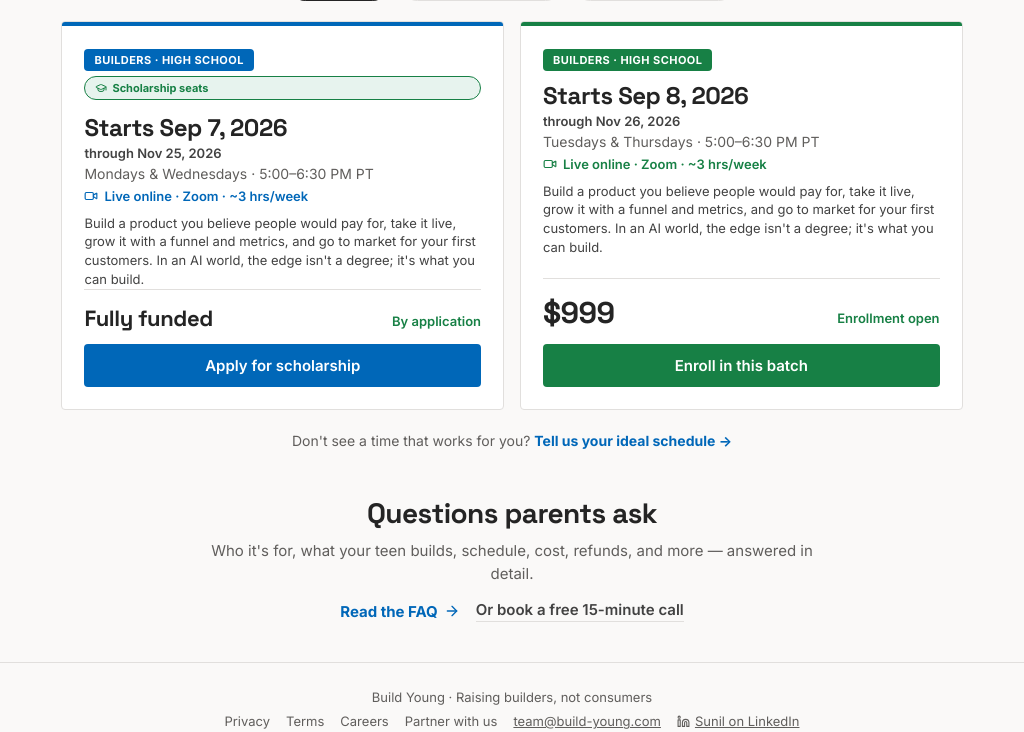
Scenario: Enroll flow › a $0 scholarship cohort: locks the cohort (no Batch selector), drops the seat count, and notes funding covers tuition only (SPECS/017)
(page scrolled)
Click the button "Apply for scholarship": coordinates (283, 365) [84, 344, 481, 387]
(page scrolled)
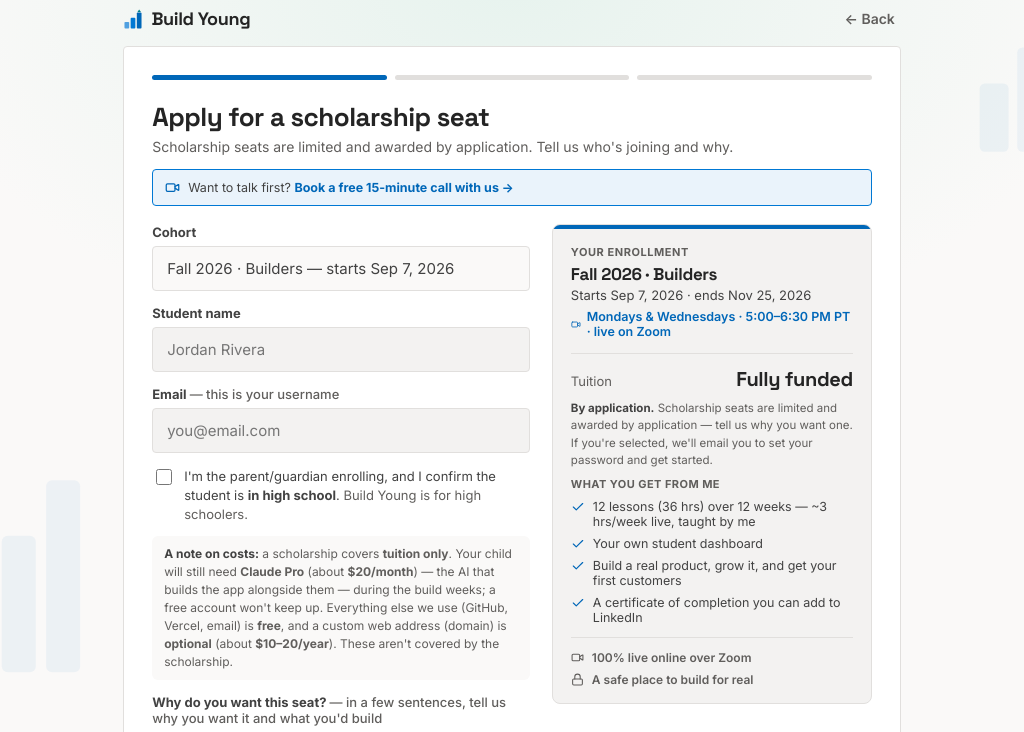
Expected: the heading "Apply for a scholarship seat" is shown, [152, 100, 489, 134]
Expected: the button labelled "batch" is gone
Expected: the text "a scholarship covers tuition only" is shown, [152, 536, 530, 680]
